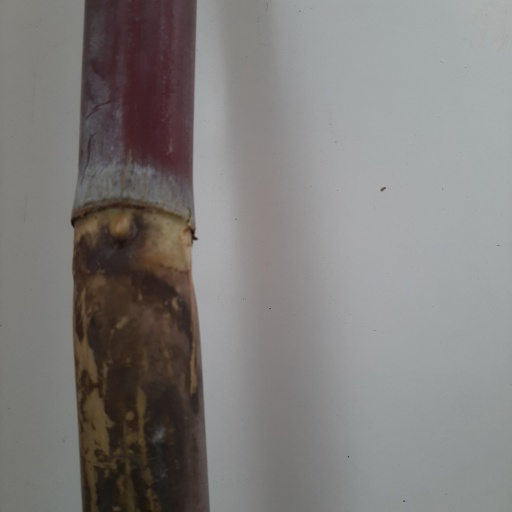Bud: (108, 211, 134, 244)
